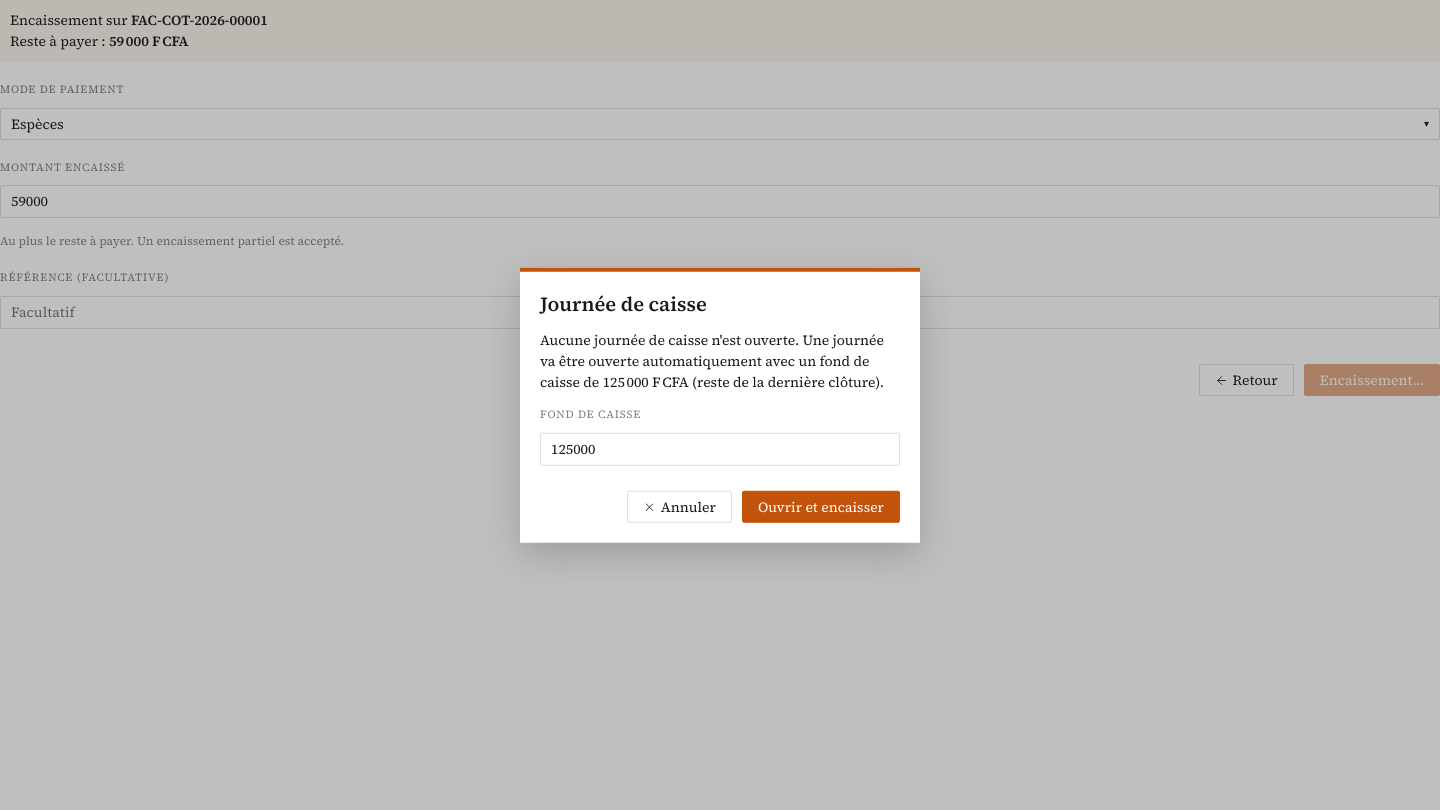
PaymentFormComponent › cash day › sends nothing when the opening dialog is cancelled, and keeps the form
Click the button with class "icon-cancel" at (679, 506), box [627, 490, 732, 522]
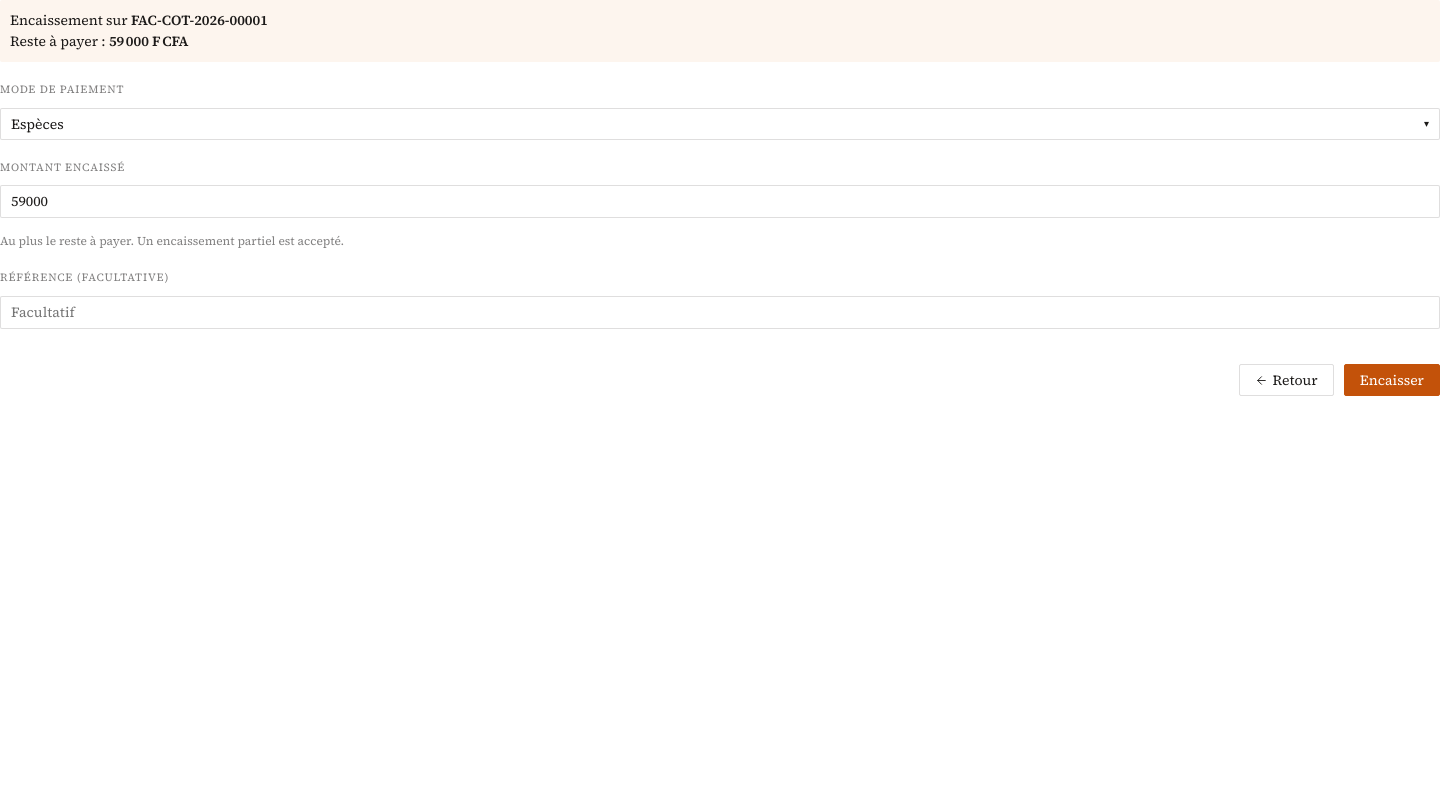
Expected: the dialog is gone
